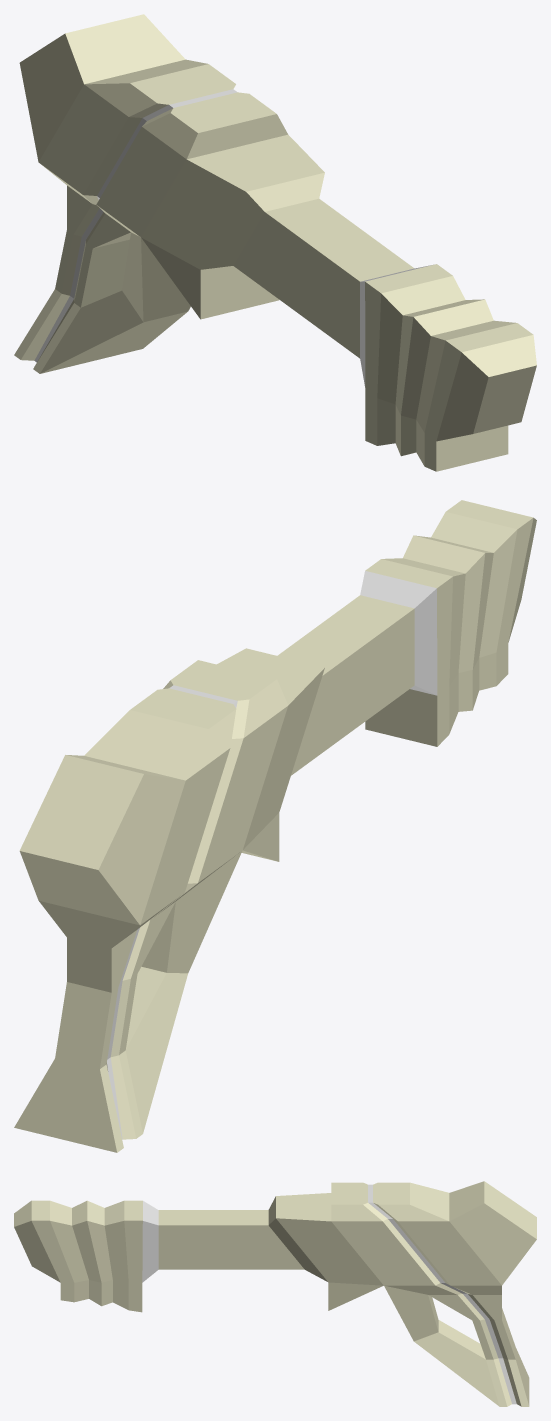
Rendered from gun.fbx.
The picture shows the model from 3 angles, top to bottom: view 1: azimuth 30°, elevation 25°; view 2: azimuth 150°, elevation 25°; view 3: azimuth 270°, elevation 25°; orthographic projection. The views are drawn at different scales.
Parts seen in each view (by area): view 1: Cube; view 2: Cube; view 3: Cube.
Part boxes in pixels (x1,y1,x2,y2): Cube: [14, 14, 536, 471]; Cube: [14, 500, 536, 1152]; Cube: [14, 1181, 536, 1406].
Size of the model in its own units: 158 by 507 by 1200.
